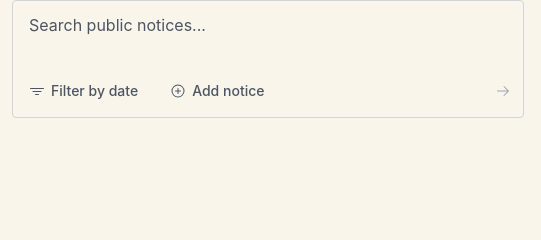
Test: SearchBar › toggles date filter visibility
Click the button "Filter by date".
click(84, 91)  # box [21,77,146,105]
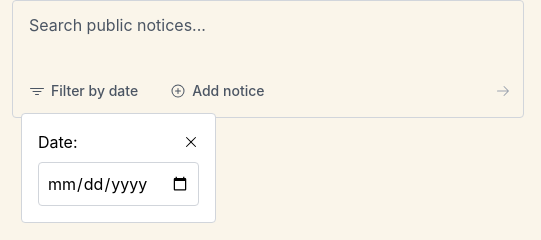
Result: the date field labelled "Date:" is shown at [38,162,199,206]
